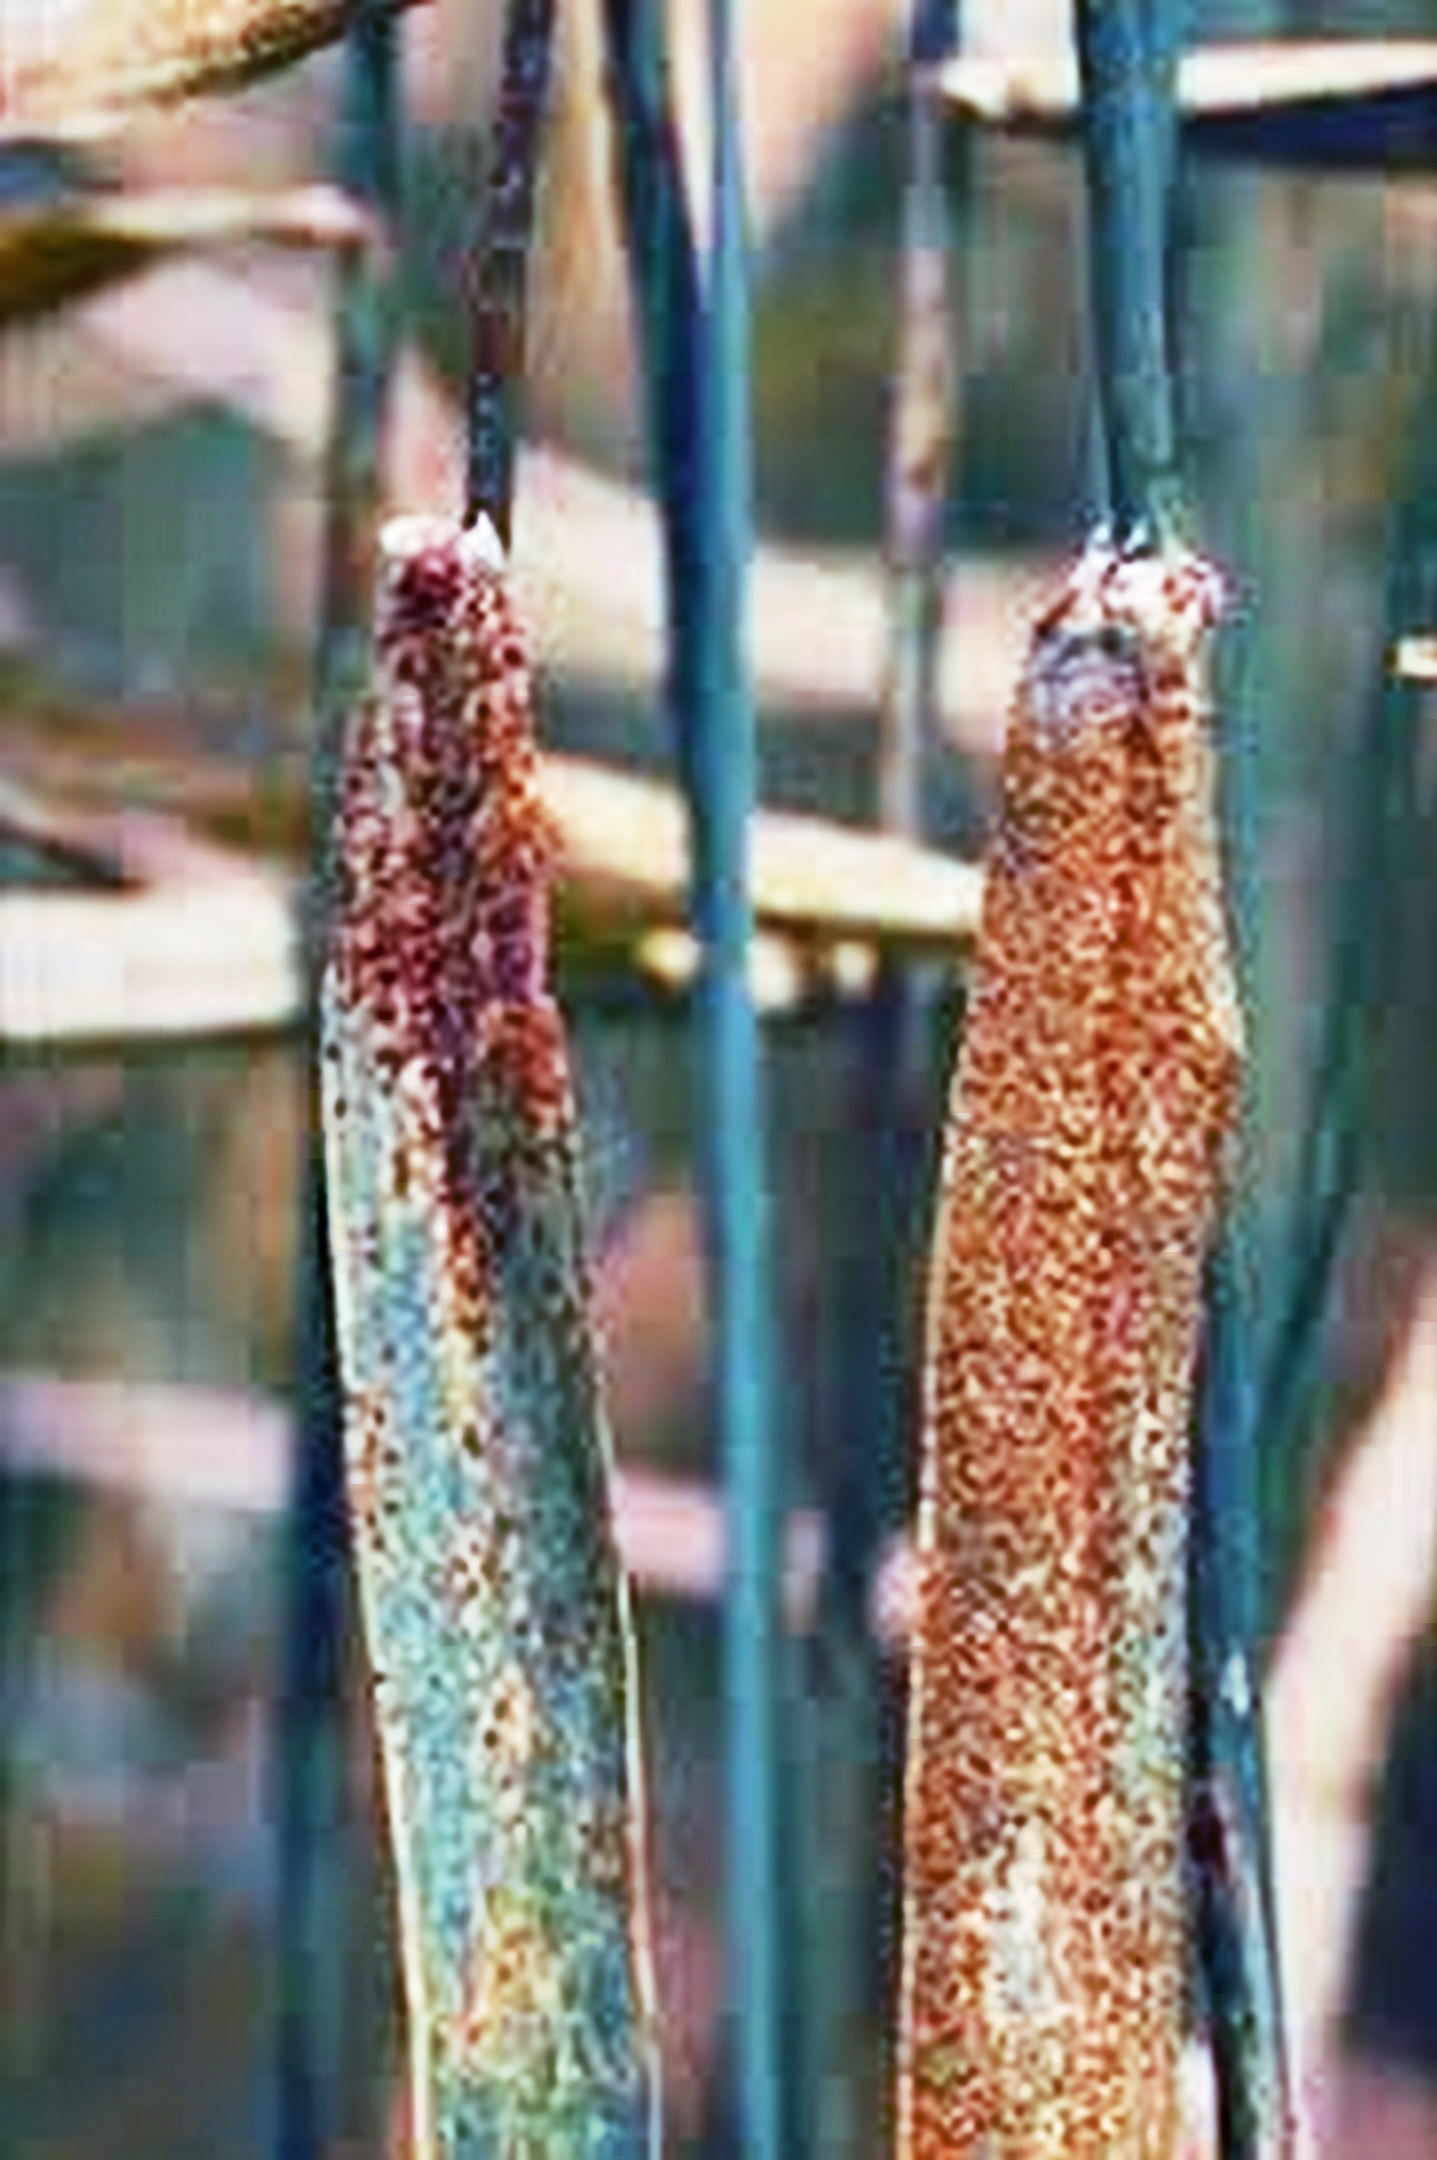Leaf Rust: (842, 696, 1301, 2147)
